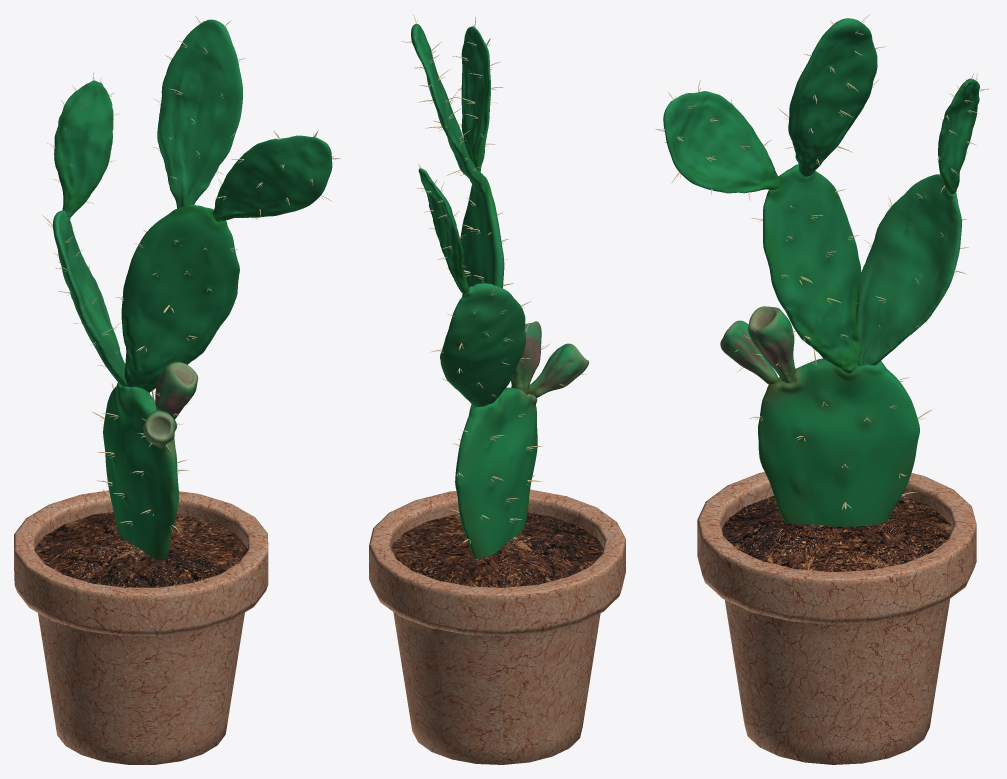
Rendered from opuntia_cacti.glb.
The picture shows the model from 3 angles, left to right: view 1: azimuth 30°, elevation 25°; view 2: azimuth 150°, elevation 25°; view 3: azimuth 270°, elevation 25°; orthographic projection. The views are drawn at different scales.
Parts seen in each view (by area): view 1: polySurface1, Opuntia_Ohr02:Group21714, Opuntia_Ohr03:Group21714, polySurface2, Opuntia_Fuss:Group21714, Opuntia_Ohr04:Group21714, Opuntia_Ohr05:Group21714, Opuntia_Ohr01:Group21714, Opuntia_Feige02:Group21714, Opuntia_Feige01:Group21714; view 2: polySurface1, Opuntia_Fuss:Group21714, polySurface2, Opuntia_Ohr01:Group21714, Opuntia_Ohr02:Group21714, Opuntia_Ohr04:Group21714, Opuntia_Ohr03:Group21714, Opuntia_Ohr05:Group21714, Opuntia_Feige01:Group21714, Opuntia_Feige02:Group21714; view 3: polySurface1, Opuntia_Fuss:Group21714, Opuntia_Ohr02:Group21714, Opuntia_Ohr01:Group21714, polySurface2, Opuntia_Ohr03:Group21714, Opuntia_Ohr04:Group21714, Opuntia_Ohr05:Group21714, Opuntia_Feige02:Group21714, Opuntia_Feige01:Group21714.
Part boxes in pixels (left/top/right/bottom): polySurface1: left=14, top=490, right=268, bottom=764; Opuntia_Ohr02:Group21714: left=121, top=204, right=239, bottom=392; Opuntia_Ohr03:Group21714: left=157, top=19, right=242, bottom=208; polySurface2: left=34, top=512, right=247, bottom=587; Opuntia_Fuss:Group21714: left=103, top=382, right=178, bottom=560; Opuntia_Ohr04:Group21714: left=212, top=135, right=332, bottom=221; Opuntia_Ohr05:Group21714: left=54, top=80, right=113, bottom=218; Opuntia_Ohr01:Group21714: left=53, top=210, right=127, bottom=386; Opuntia_Feige02:Group21714: left=155, top=362, right=198, bottom=419; Opuntia_Feige01:Group21714: left=142, top=410, right=176, bottom=447; polySurface1: left=369, top=489, right=625, bottom=764; Opuntia_Fuss:Group21714: left=455, top=387, right=537, bottom=558; polySurface2: left=391, top=512, right=603, bottom=587; Opuntia_Ohr01:Group21714: left=440, top=283, right=525, bottom=406; Opuntia_Ohr02:Group21714: left=460, top=171, right=504, bottom=288; Opuntia_Ohr04:Group21714: left=461, top=26, right=490, bottom=172; Opuntia_Ohr03:Group21714: left=411, top=24, right=485, bottom=194; Opuntia_Ohr05:Group21714: left=418, top=168, right=468, bottom=293; Opuntia_Feige01:Group21714: left=528, top=343, right=588, bottom=397; Opuntia_Feige02:Group21714: left=511, top=321, right=541, bottom=394; polySurface1: left=697, top=472, right=976, bottom=764; Opuntia_Fuss:Group21714: left=758, top=358, right=919, bottom=526; Opuntia_Ohr02:Group21714: left=763, top=164, right=861, bottom=373; Opuntia_Ohr01:Group21714: left=856, top=174, right=961, bottom=365; polySurface2: left=722, top=496, right=952, bottom=572; Opuntia_Ohr03:Group21714: left=788, top=18, right=877, bottom=176; Opuntia_Ohr04:Group21714: left=663, top=91, right=780, bottom=193; Opuntia_Ohr05:Group21714: left=938, top=78, right=979, bottom=194; Opuntia_Feige02:Group21714: left=748, top=306, right=795, bottom=383; Opuntia_Feige01:Group21714: left=720, top=320, right=778, bottom=384.
Bounding box in the file's own units: 3.21 × 9.32 × 3.79.
Materials: 11 (11 with a texture image).
